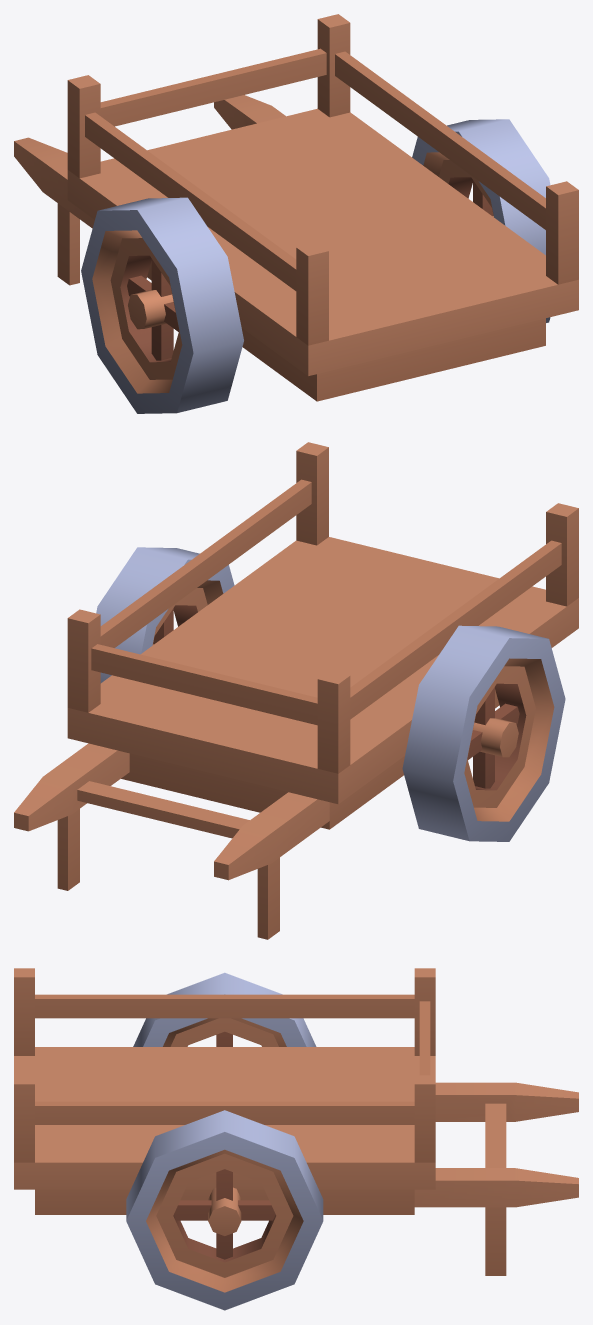
File: cart.glb
3 renders of one model, top to bottom at view 1: azimuth 30°, elevation 25°; view 2: azimuth 150°, elevation 25°; view 3: azimuth 270°, elevation 25°, orthographic. The views are drawn at different scales.
Visible parts, largest first — view 1: cart, Group (×2); view 2: cart, Group (×2); view 3: cart, Group (×2).
Boxes of the visible parts, x1,y1,x2,y2 form: cart: (14, 14, 578, 401); Group (×2): (81, 119, 550, 413); cart: (14, 442, 578, 939); Group (×2): (96, 547, 565, 841); cart: (14, 968, 578, 1275); Group (×2): (126, 972, 323, 1310).
Size of the model in its own units: 0.893 by 0.5355 by 1.34.
1 material, 1 textured.
